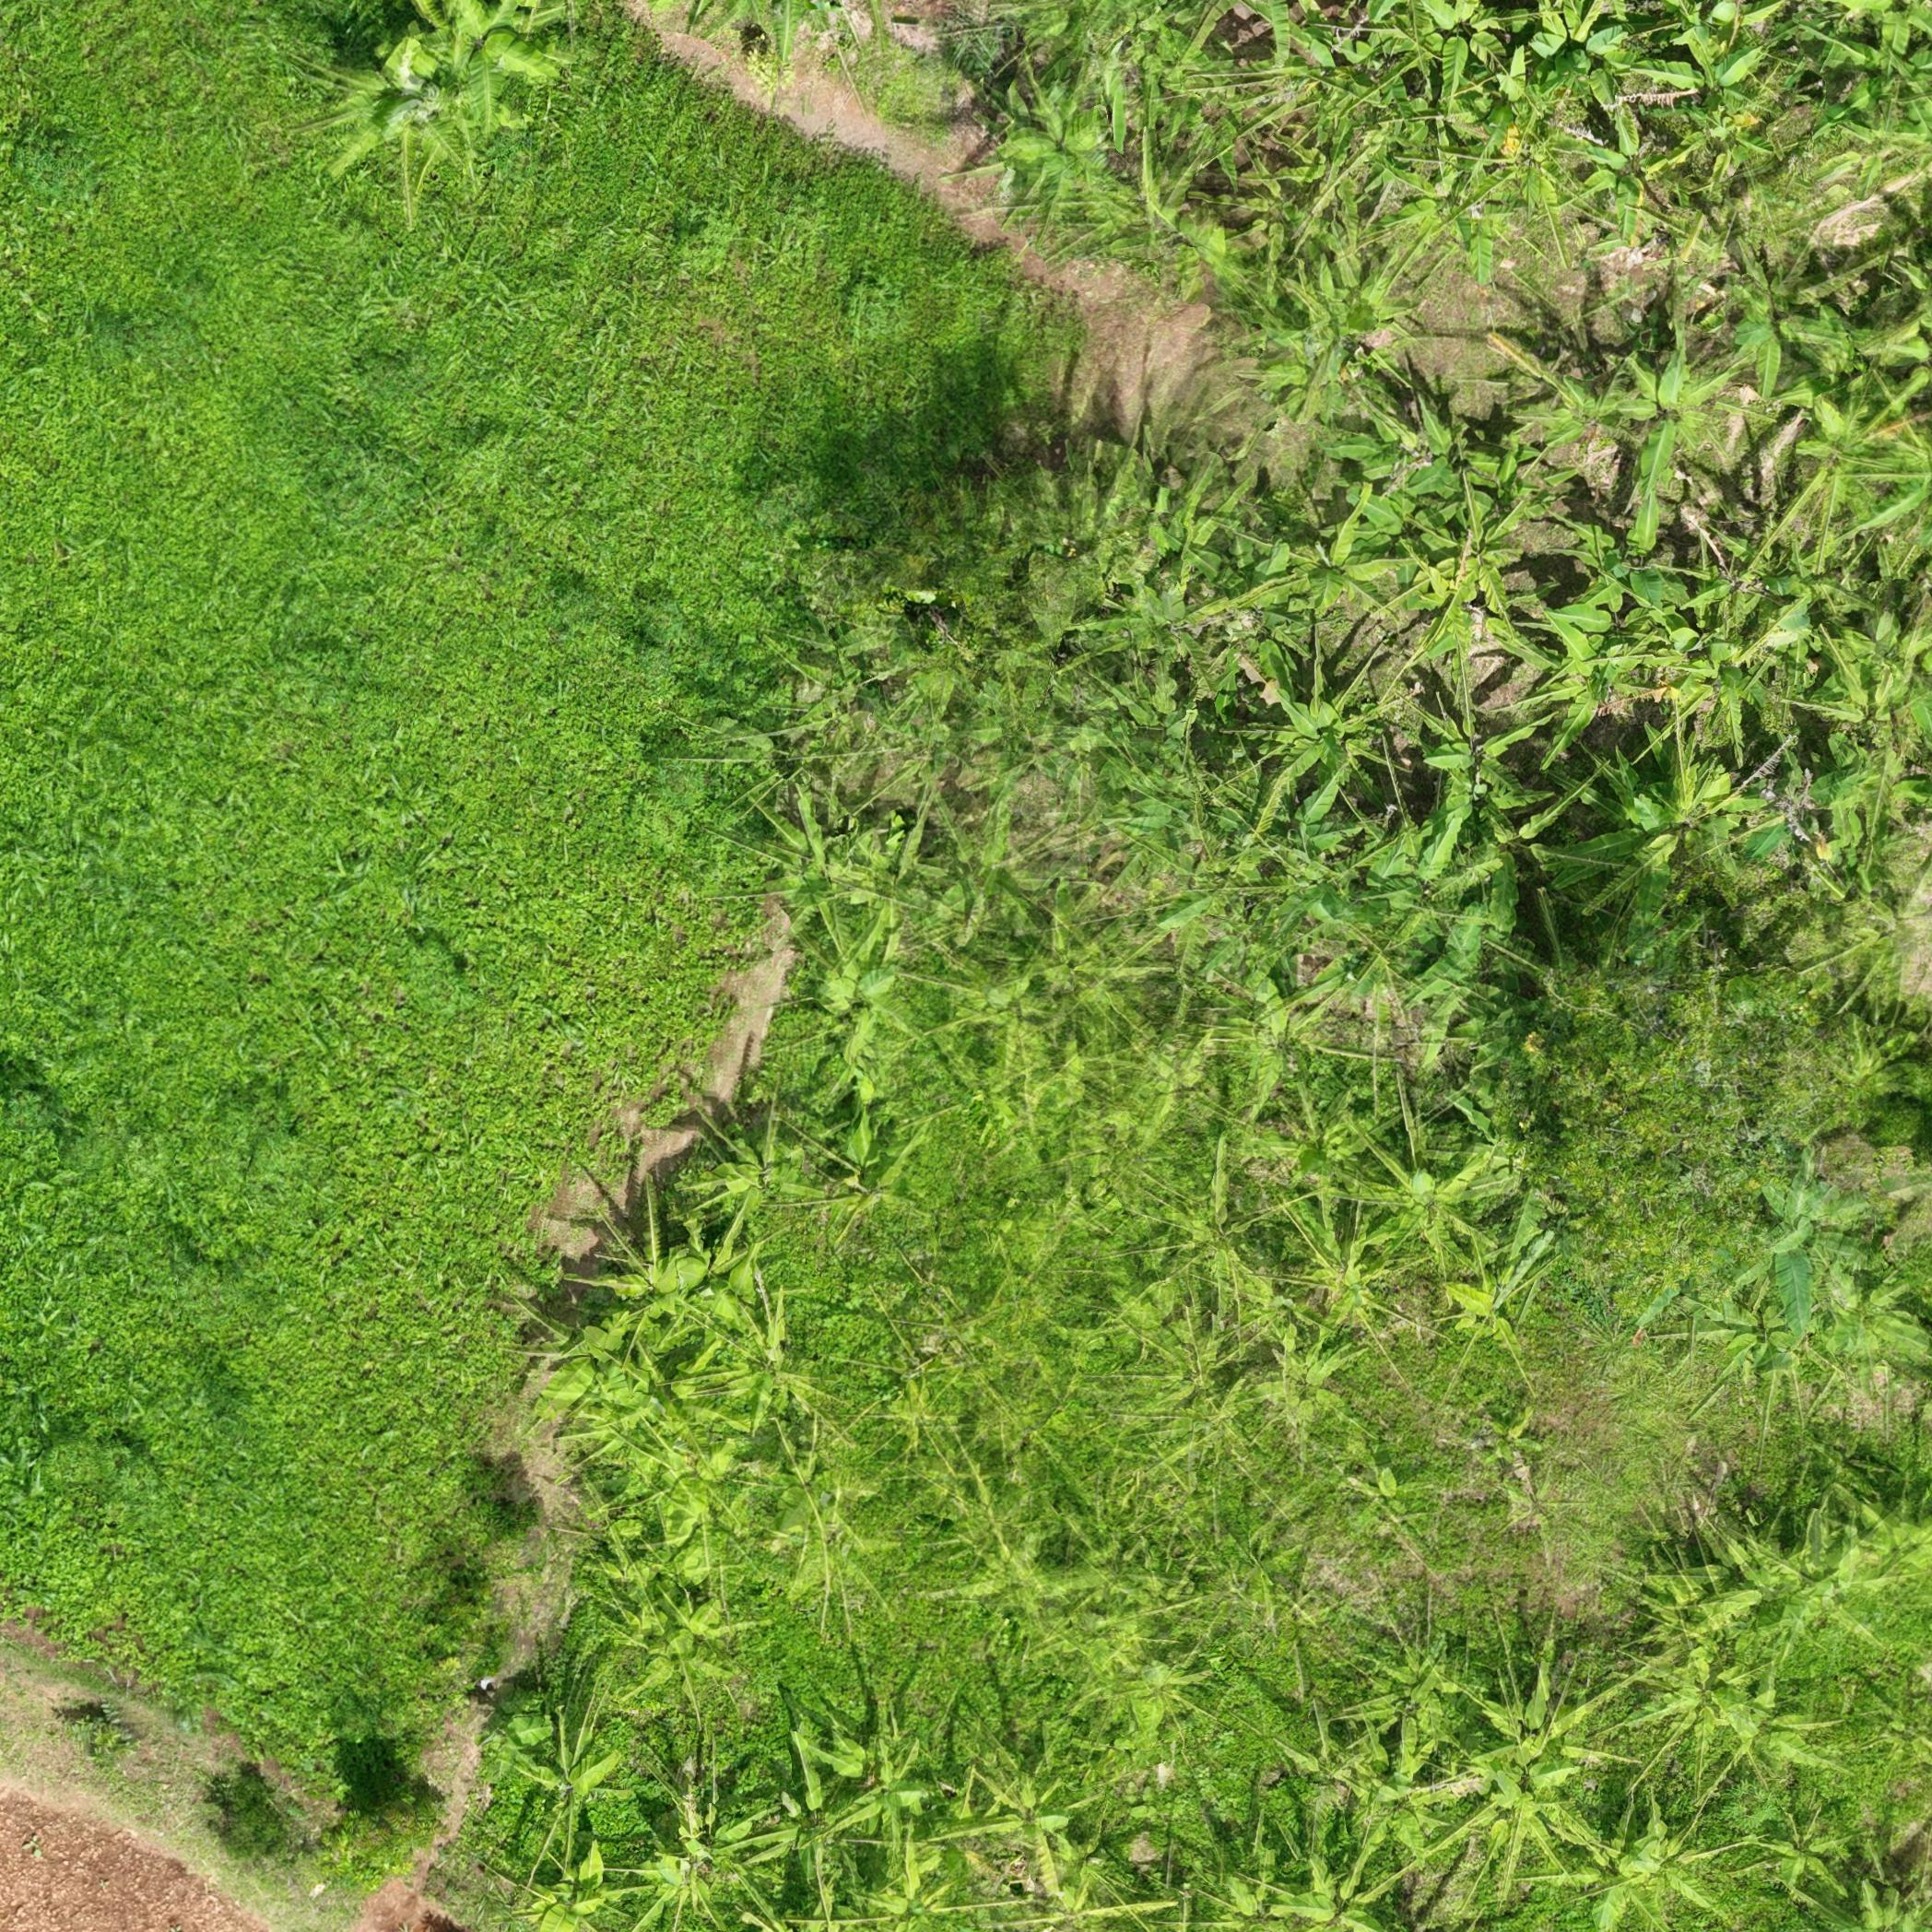Banana: (1541, 756, 1738, 915), (474, 1682, 629, 1879), (723, 1731, 877, 1908), (1440, 1720, 1612, 1876), (1250, 657, 1417, 817), (1539, 510, 1706, 669), (580, 1559, 760, 1697), (1712, 1235, 1901, 1365), (306, 49, 489, 178), (1278, 1183, 1417, 1342), (577, 1187, 723, 1337), (1396, 482, 1532, 642), (1598, 316, 1727, 480), (679, 1086, 816, 1238), (1334, 1604, 1472, 1752), (1401, 688, 1537, 820), (725, 797, 891, 904), (693, 1302, 826, 1429), (1795, 618, 1931, 734), (1278, 485, 1388, 628), (1506, 337, 1626, 464), (1825, 6, 1931, 147), (403, 5, 592, 84), (951, 1747, 1065, 1879), (1428, 1254, 1558, 1365), (1715, 272, 1836, 392), (527, 1347, 672, 1438), (1627, 10, 1783, 93), (1573, 113, 1668, 241), (1402, 5, 1512, 107), (1525, 6, 1641, 78)
